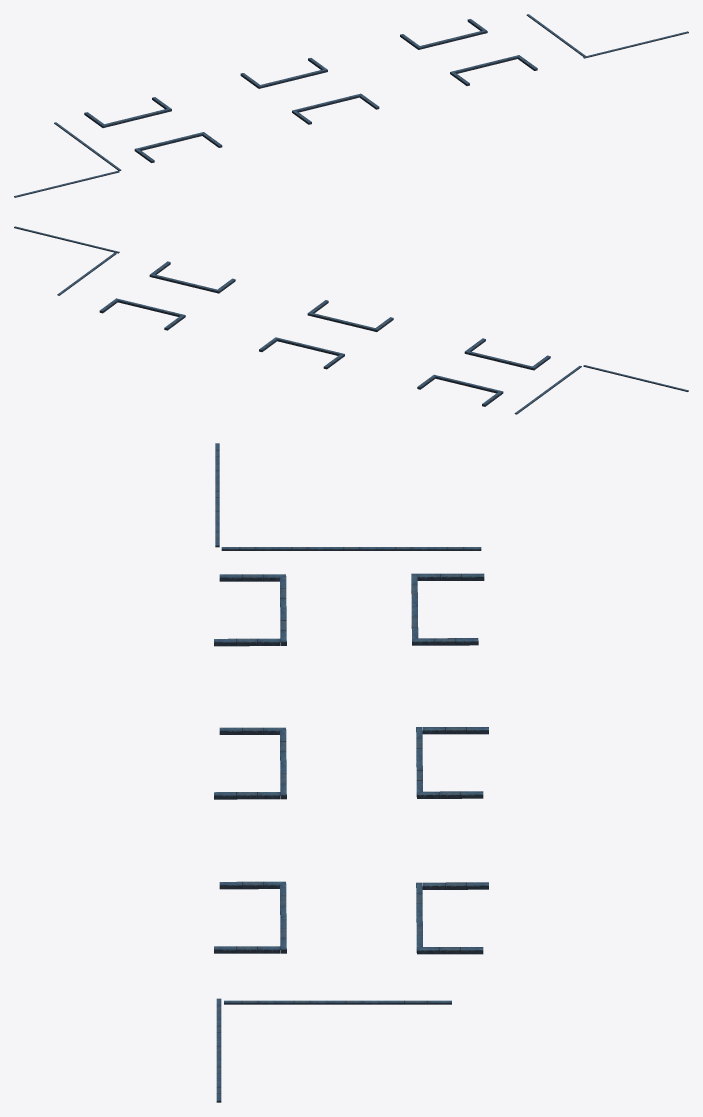
The model's file is xiaowujian_group1.fbx.
3 views of the same model, one above another, from view 1: azimuth 30°, elevation 25°; view 2: azimuth 150°, elevation 25°; view 3: azimuth 270°, elevation 25° (orthographic). The views are drawn at different scales.
Parts seen in each view (by area): view 1: xiaowujian_group1; view 2: xiaowujian_group1; view 3: xiaowujian_group1.
Boxes of the visible parts, x1,y1,x2,y2 form: xiaowujian_group1: (14, 14, 688, 197); xiaowujian_group1: (14, 226, 688, 414); xiaowujian_group1: (214, 443, 488, 1102).
Size of the model in its own units: 10843 by 43.01 by 1918.
Materials: 1 (1 with a texture image).
